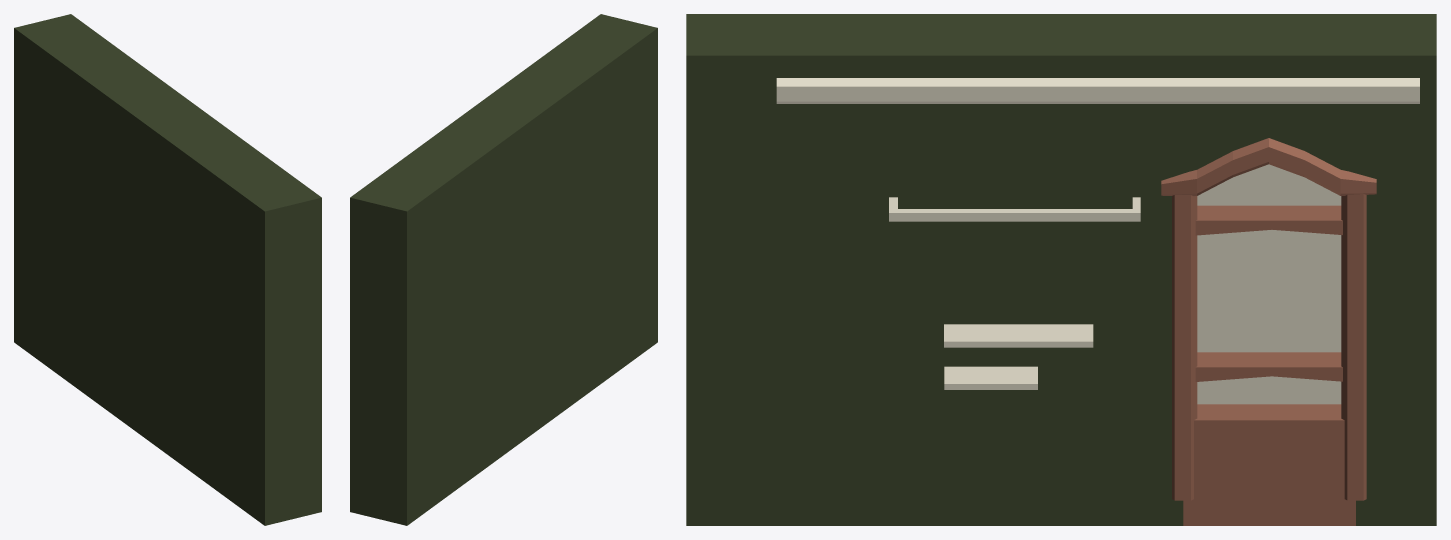
File: wall_front.fbx
3 renders of one model, left to right at view 1: azimuth 30°, elevation 25°; view 2: azimuth 150°, elevation 25°; view 3: azimuth 270°, elevation 25°, orthographic. The views are drawn at different scales.
Visible parts, largest first — view 1: Cube.026; view 2: Cube.026; view 3: Cube.026.
Part boxes in pixels (<box>): Cube.026: <box>14,14,321,525</box>; Cube.026: <box>350,14,657,525</box>; Cube.026: <box>686,14,1436,525</box>.
Bounding box in the file's own units: 623 × 2313 × 3343.
